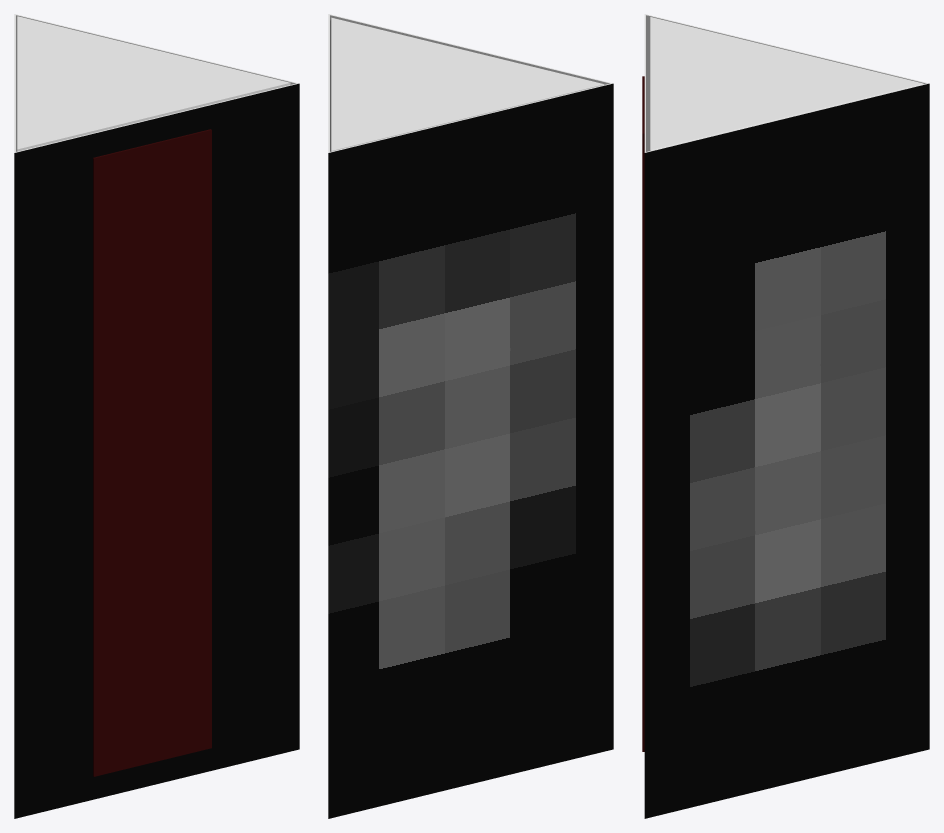
3 renders of one model, left to right at view 1: azimuth 30°, elevation 25°; view 2: azimuth 150°, elevation 25°; view 3: azimuth 270°, elevation 25°, orthographic.
Visible parts, largest first — view 1: polySurface1 d01 ked_90, d01 ked_90 polySurface2, ked_90 d02; view 2: polySurface1 d01 ked_90, ked_90 d02; view 3: polySurface1 d01 ked_90, ked_90 d02, d01 ked_90 polySurface2.
Part boxes in pixels (x1,y1,x2,y2): polySurface1 d01 ked_90: [14, 14, 299, 818]; d01 ked_90 polySurface2: [93, 129, 211, 776]; ked_90 d02: [17, 16, 290, 151]; polySurface1 d01 ked_90: [328, 14, 613, 818]; ked_90 d02: [330, 17, 604, 151]; polySurface1 d01 ked_90: [644, 14, 929, 818]; ked_90 d02: [650, 17, 923, 150]; d01 ked_90 polySurface2: [642, 76, 644, 751].
Bounding box in the file's own units: 0.0026 × 0.0058 × 0.00227.
Materials: 3 (3 with a texture image).
